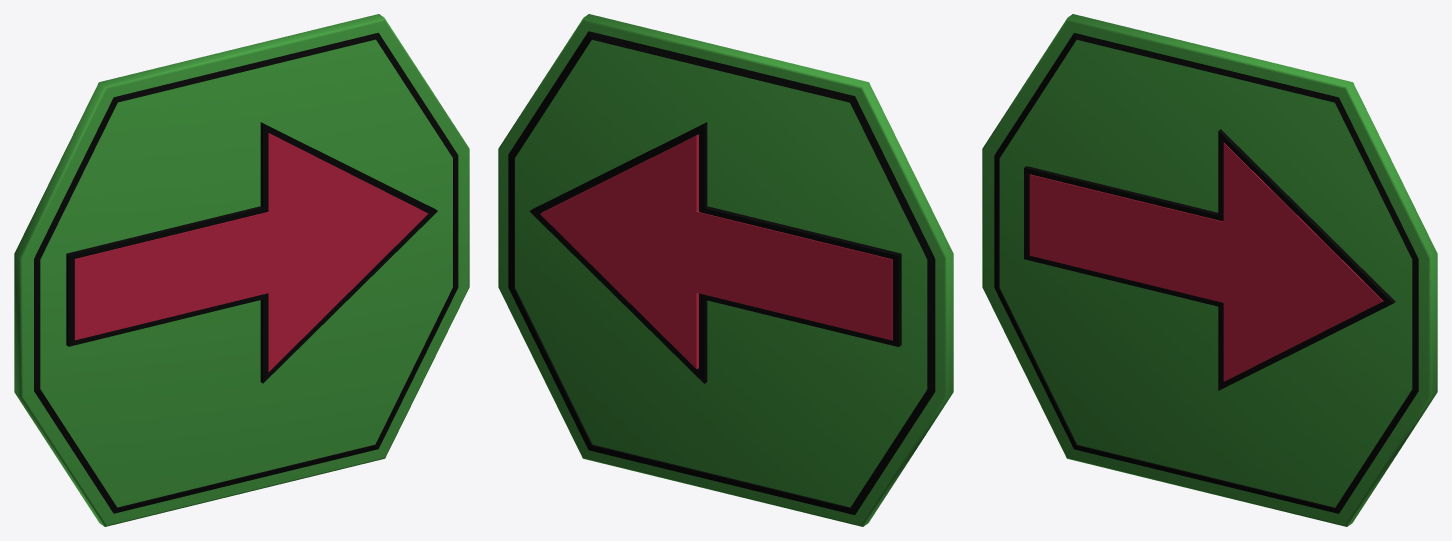
The model's file is Hexagon_RightArrow.fbx.
3 renders of one model, left to right at view 1: azimuth 30°, elevation 25°; view 2: azimuth 150°, elevation 25°; view 3: azimuth 330°, elevation 25°, orthographic.
Parts seen in each view (by area): view 1: outer_HexagonRight; view 2: outer_HexagonRight; view 3: outer_HexagonRight.
Part boxes in pixels (<box>): outer_HexagonRight: <box>14,14,469,526</box>; outer_HexagonRight: <box>498,14,953,526</box>; outer_HexagonRight: <box>982,14,1437,526</box>.
Bounding box in the file's own units: 151 × 142 × 7.94.
4 materials, 4 textured.
